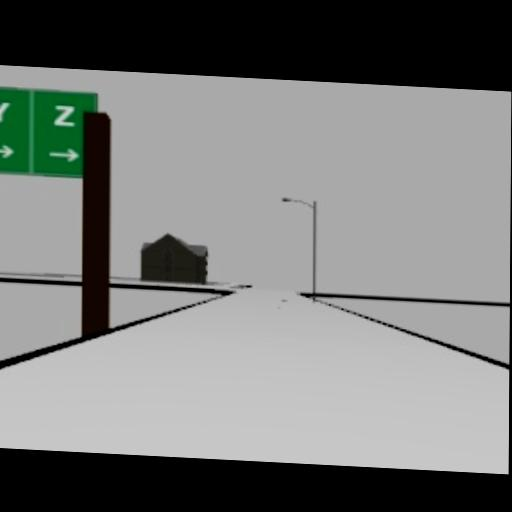Right: (47, 145, 79, 161), (0, 143, 17, 158)
Y: (0, 100, 9, 122)
Z: (53, 103, 76, 125)
